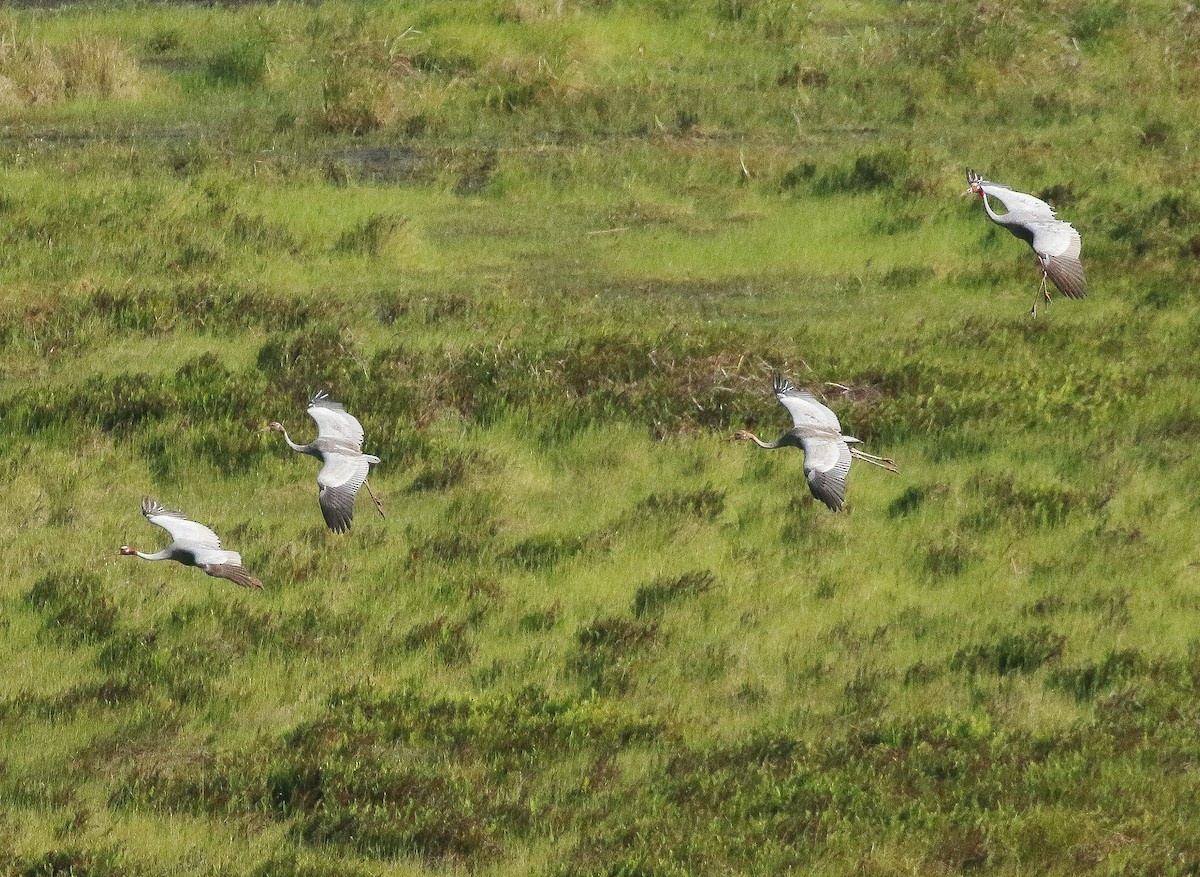crane: (721, 375, 905, 514), (957, 163, 1096, 328), (254, 385, 401, 537), (108, 488, 269, 608)
